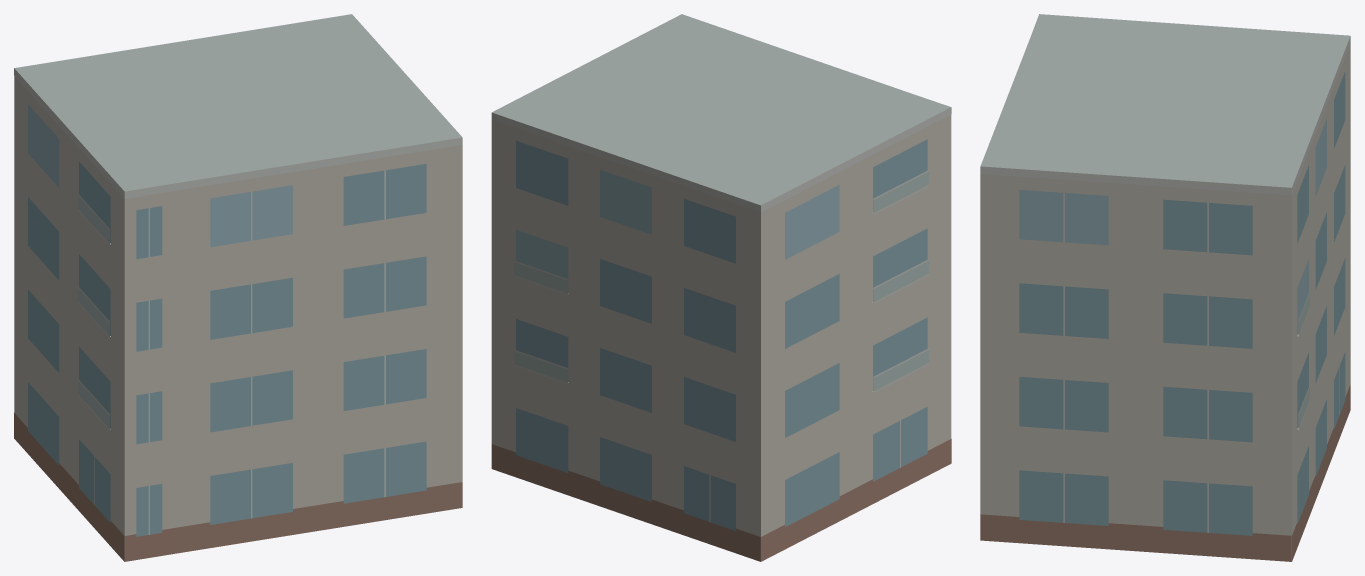
The model's file is residential-f44e496a-d276-4144-b949-b0e742b32bae.glb.
3 renders of one model, left to right at view 1: azimuth 30°, elevation 25°; view 2: azimuth 150°, elevation 25°; view 3: azimuth 270°, elevation 25°, orthographic. The views are drawn at different scales.
Visible parts, largest first — view 1: residential-f44e496a-d276-4144-b949-b0e742b32bae.tmp; view 2: residential-f44e496a-d276-4144-b949-b0e742b32bae.tmp; view 3: residential-f44e496a-d276-4144-b949-b0e742b32bae.tmp.
Boxes of the visible parts, left/top/right/bottom form: residential-f44e496a-d276-4144-b949-b0e742b32bae.tmp: left=14, top=14, right=462, bottom=561; residential-f44e496a-d276-4144-b949-b0e742b32bae.tmp: left=491, top=14, right=951, bottom=561; residential-f44e496a-d276-4144-b949-b0e742b32bae.tmp: left=980, top=14, right=1350, bottom=561.
Bounding box in the file's own units: 12.17 × 12.2 × 10.95.
